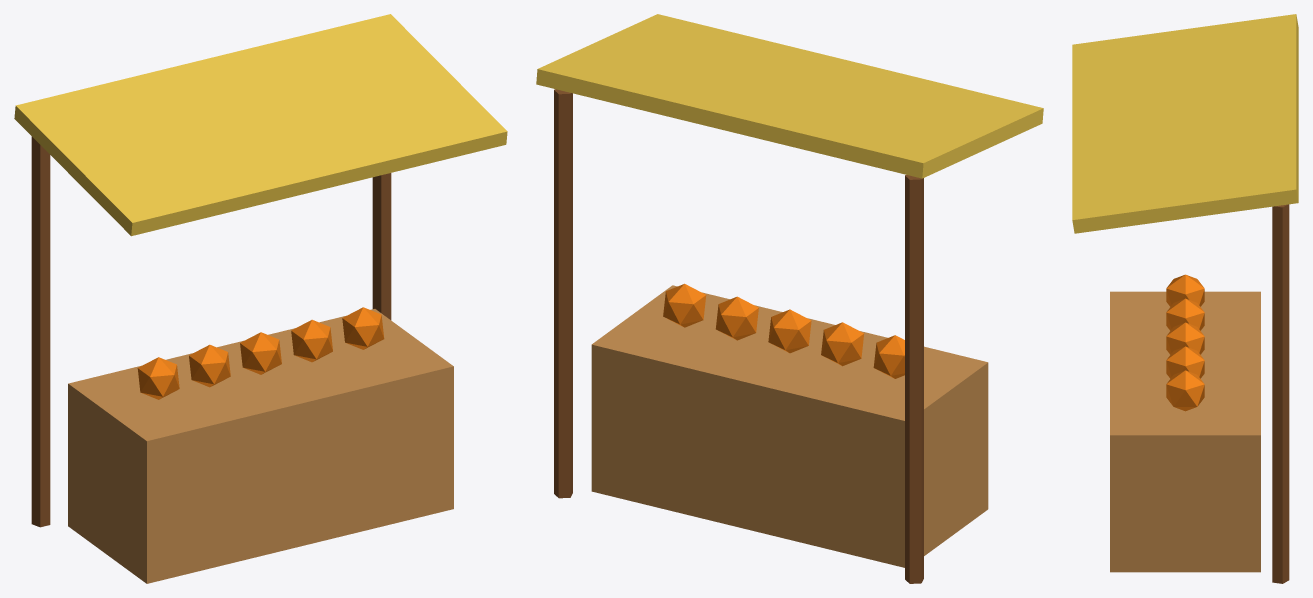
File: market_stall.fbx
The picture shows the model from 3 angles, left to right: view 1: azimuth 30°, elevation 25°; view 2: azimuth 150°, elevation 25°; view 3: azimuth 270°, elevation 25°; orthographic projection. The views are drawn at different scales.
Parts seen in each view (by area): view 1: market_stall; view 2: market_stall; view 3: market_stall.
Part boxes in pixels (<box>): market_stall: <box>14,14,507,583</box>; market_stall: <box>536,14,1043,583</box>; market_stall: <box>1072,14,1298,583</box>.
Size of the model in its own units: 2.2 by 2.33 by 1.2.
